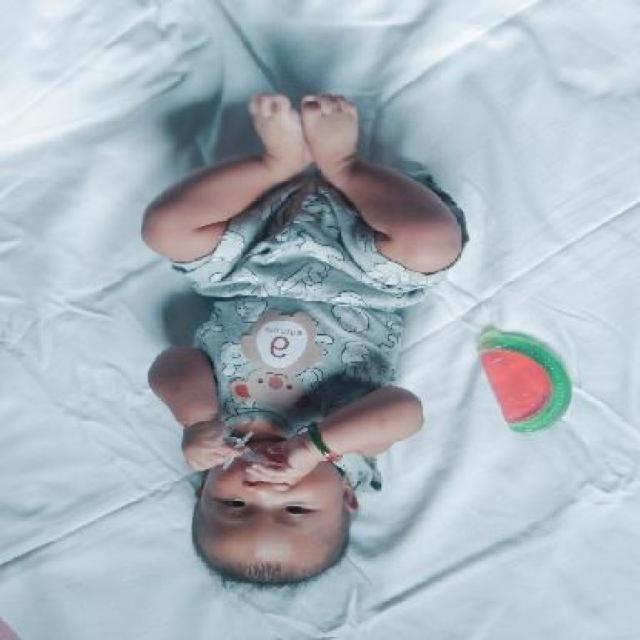baby: (135, 92, 468, 591)
